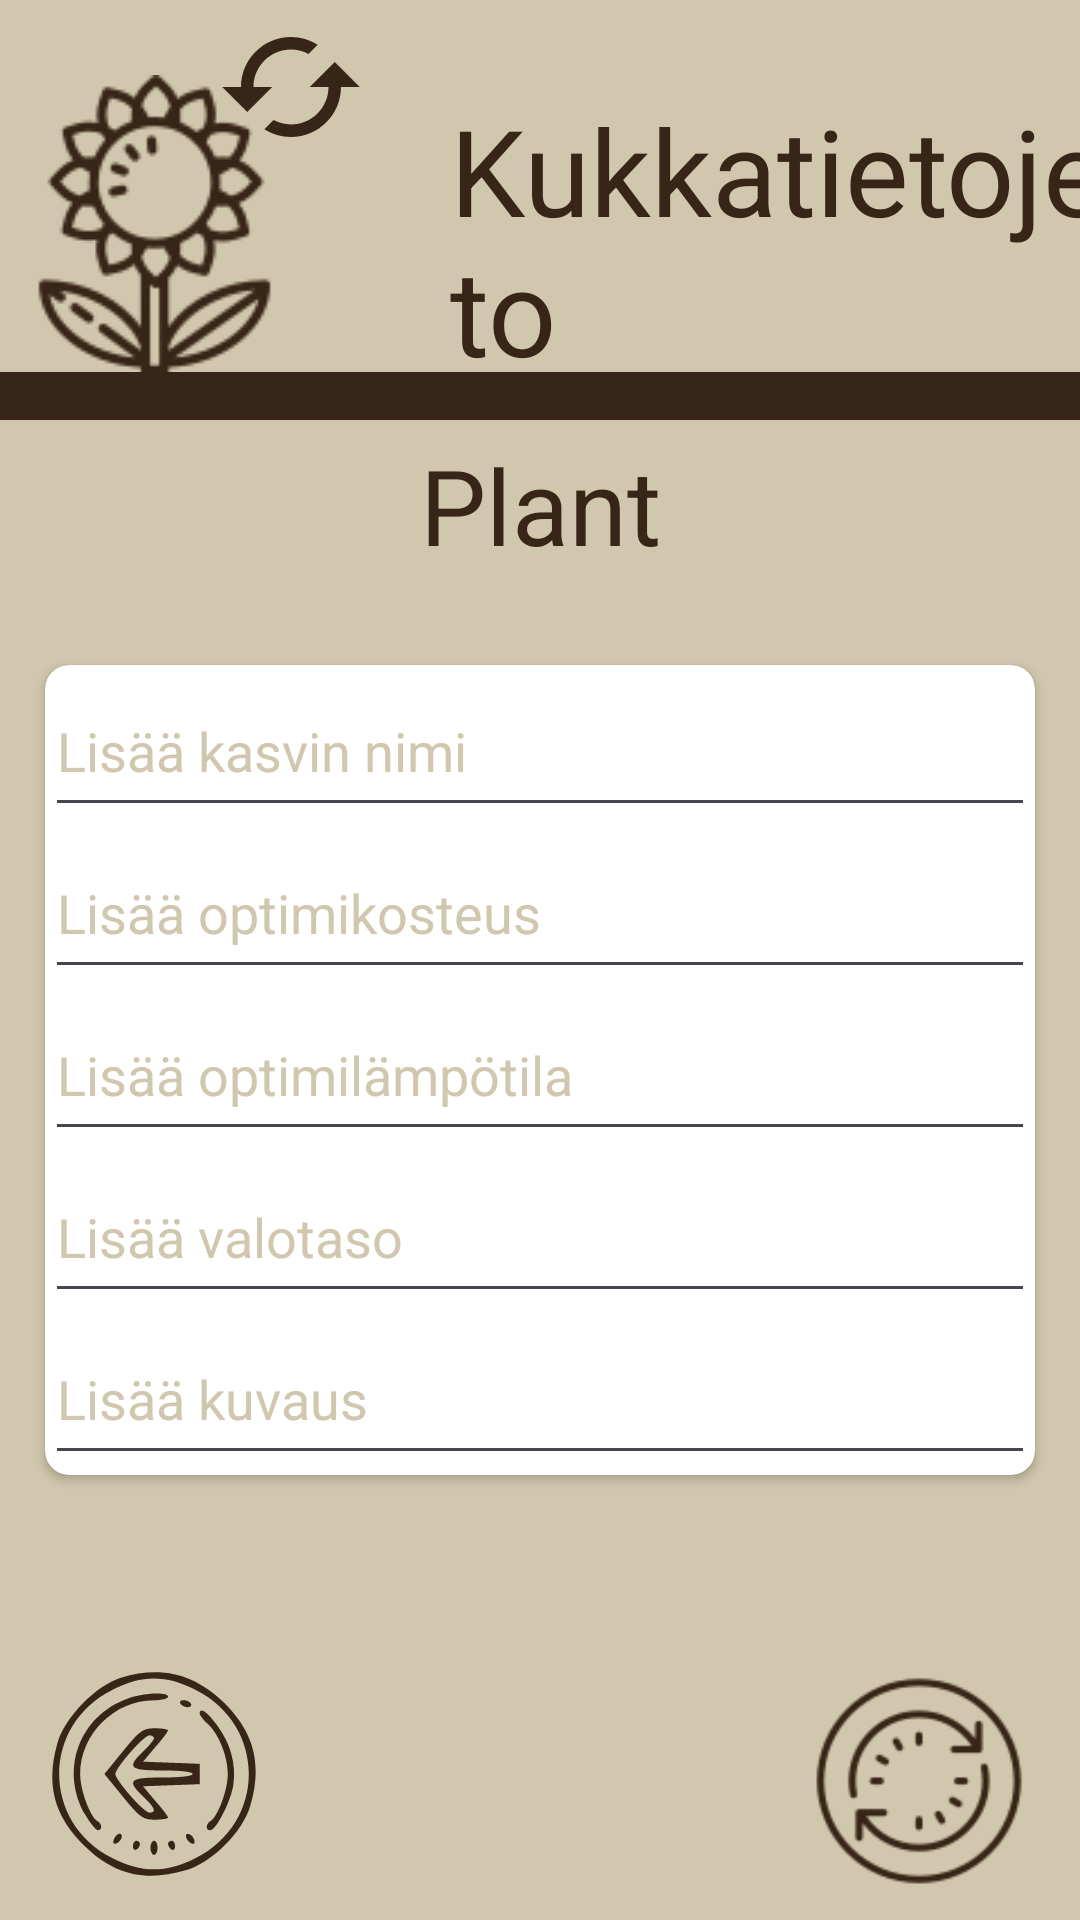

Icon click points for this 1080×1920 phone screenshot, format (x,y):
arrow: (154,1774)
refresh: (919,1781)
